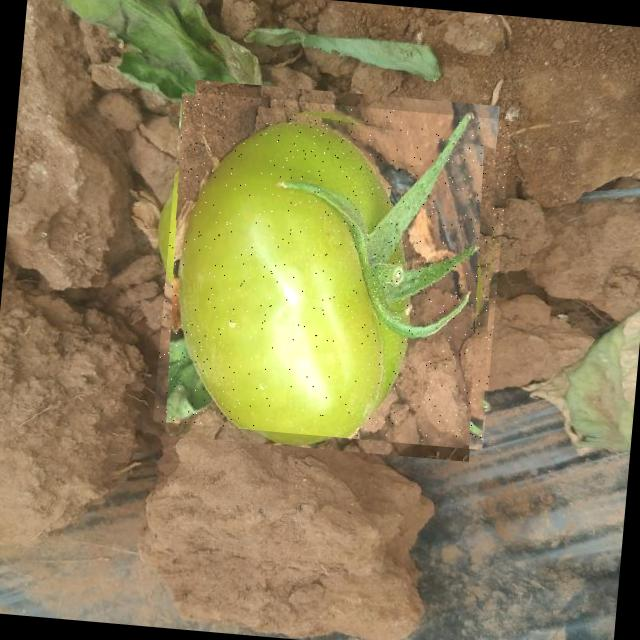Unripe Tomato: (153, 91, 512, 450)
